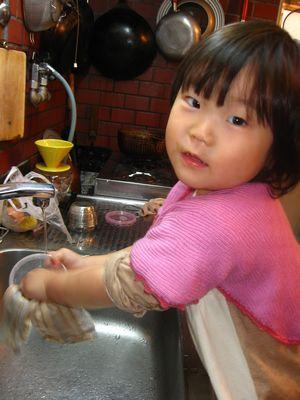person: (19, 22, 300, 400)
